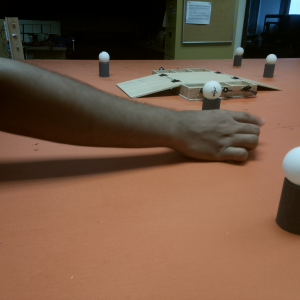obstacle: (276, 145, 300, 234), (202, 80, 221, 110), (97, 49, 112, 77), (262, 53, 277, 78), (232, 46, 244, 67)
side: (222, 81, 258, 101)
slope: (117, 74, 182, 99)
